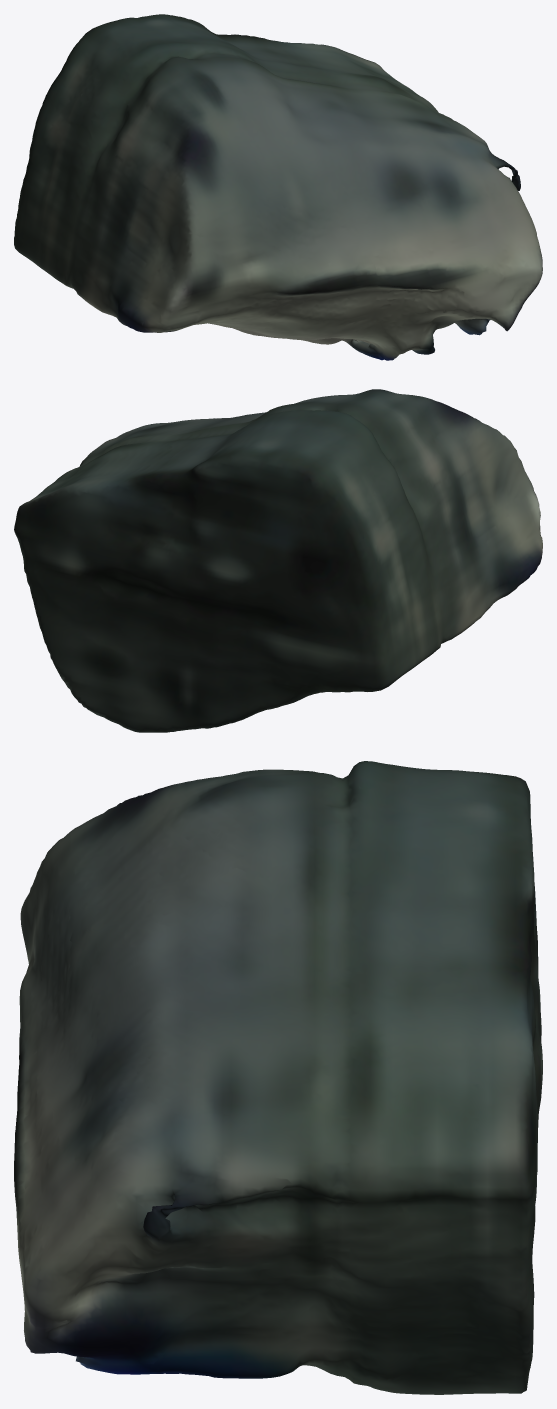
The model's file is lunch_bag.glb.
3 renders of one model, top to bottom at view 1: azimuth 30°, elevation 25°; view 2: azimuth 150°, elevation 25°; view 3: azimuth 270°, elevation 25°, orthographic. The views are drawn at different scales.
Bounding box in the file's own units: 0.9999 × 0.7727 × 0.7439.
